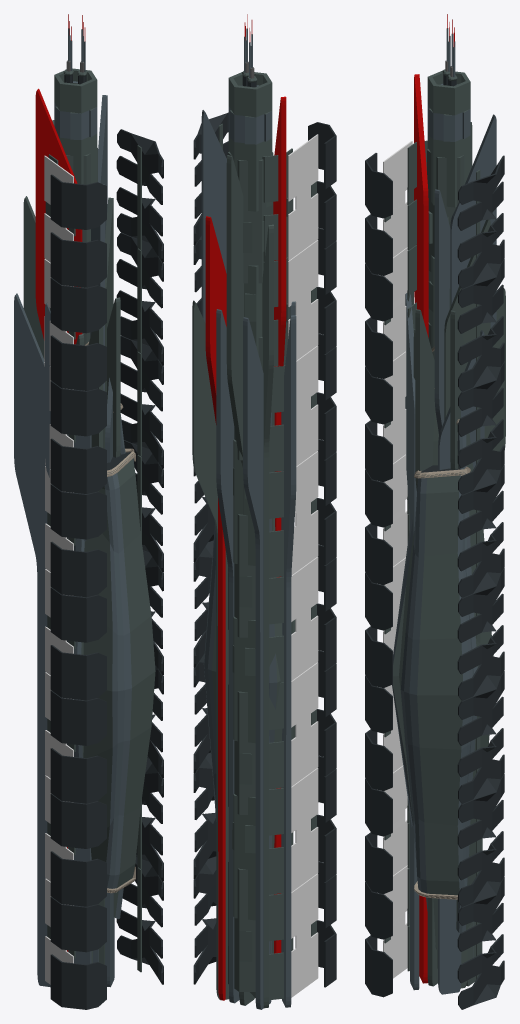
The model's file is building_75.fbx.
3 renders of one model, left to right at view 1: azimuth 30°, elevation 25°; view 2: azimuth 150°, elevation 25°; view 3: azimuth 330°, elevation 25°, orthographic. The views are drawn at different scales.
Parts seen in each view (by area): view 1: building_75; view 2: building_75; view 3: building_75.
Part boxes in pixels (x1,y1,x2,y2): building_75: [14, 14, 163, 1009]; building_75: [192, 14, 336, 1009]; building_75: [365, 14, 505, 1009].
Size of the model in its own units: 542 by 4255 by 530.
